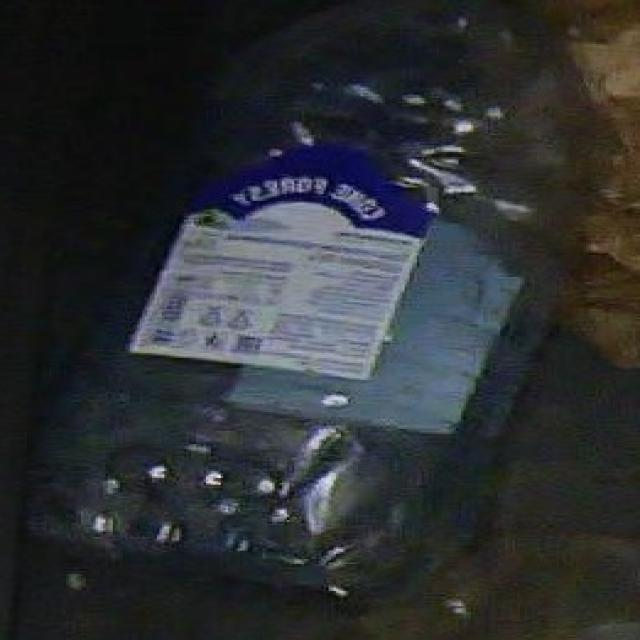litter: (88, 0, 550, 606)
